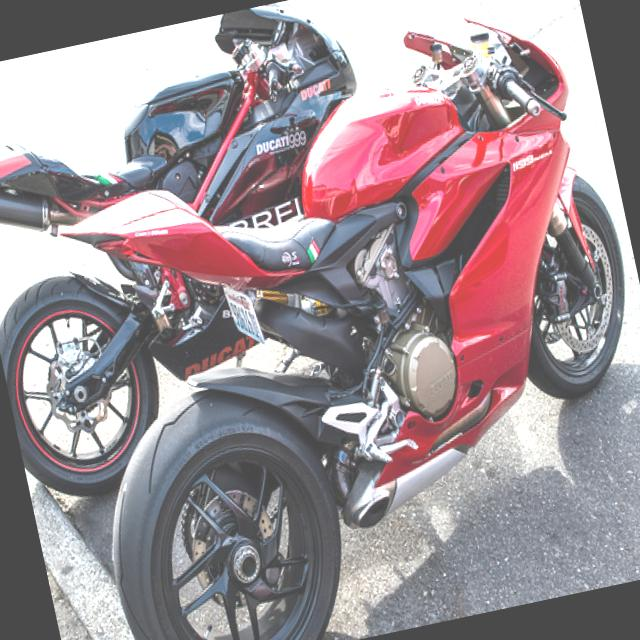Vehicle: (2, 0, 640, 640), (0, 0, 428, 500)
